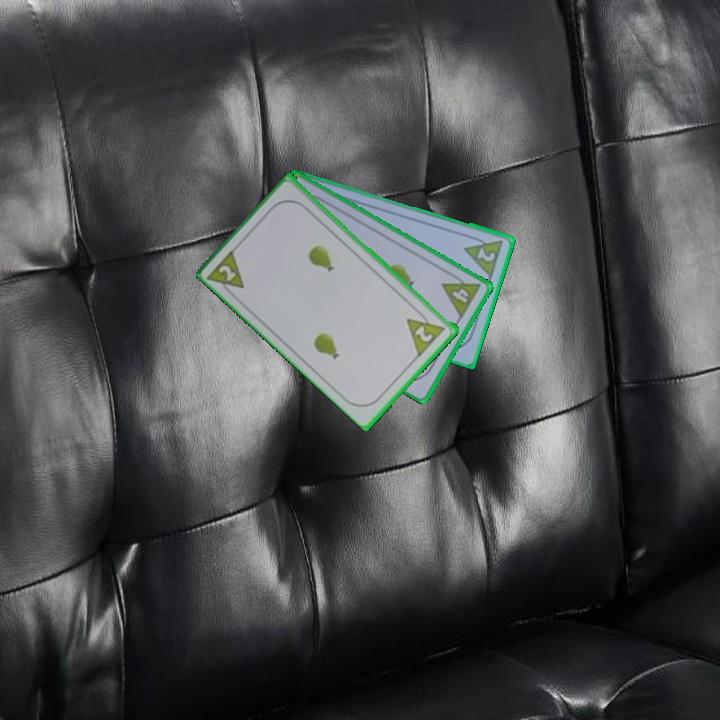2p: (204, 245, 248, 301), (403, 305, 449, 358), (461, 231, 506, 280)
4p: (438, 268, 484, 321)
